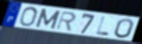7: (80, 12, 96, 35)
L: (95, 16, 110, 37)
M: (34, 8, 62, 31)
O: (113, 18, 135, 39), (18, 7, 39, 28)
R: (55, 11, 78, 32)
